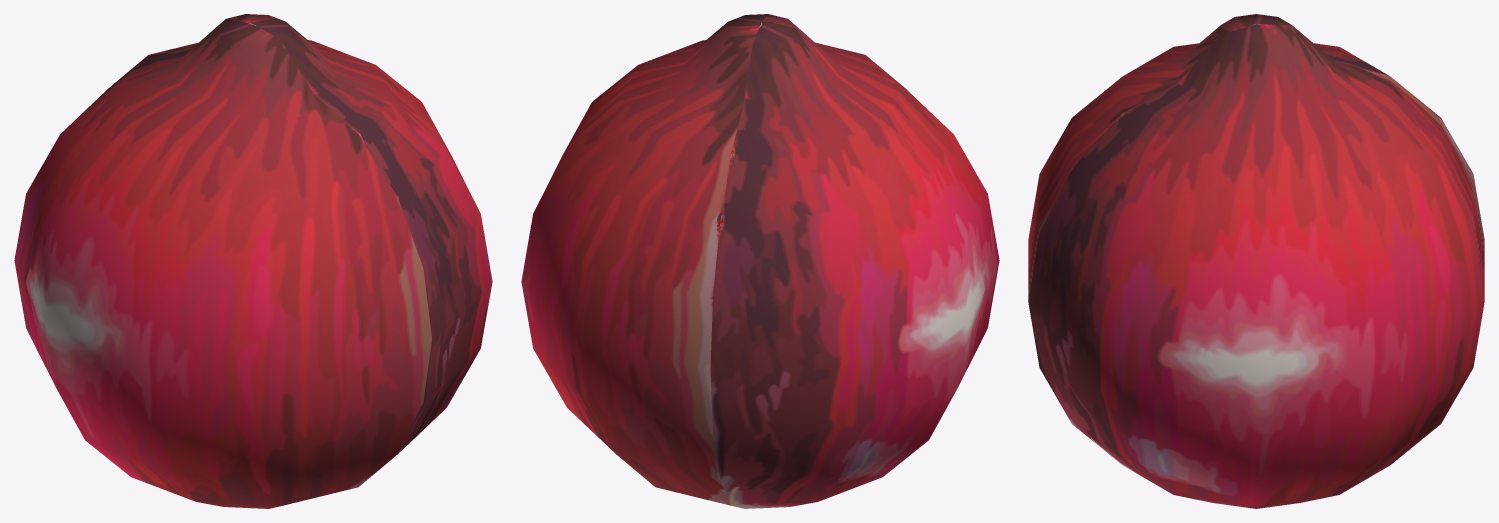
The model's file is Onion.fbx.
3 views of the same model, side by side, from view 1: azimuth 30°, elevation 25°; view 2: azimuth 150°, elevation 25°; view 3: azimuth 270°, elevation 25° (orthographic).
Visible parts, largest first — view 1: Onion; view 2: Onion; view 3: Onion.
Boxes of the visible parts, x1,y1,x2,y2 form: Onion: [14, 14, 492, 508]; Onion: [521, 14, 999, 508]; Onion: [1028, 14, 1484, 508].
Bounding box in the file's own units: 0.00761 × 0.00811 × 0.00723.
